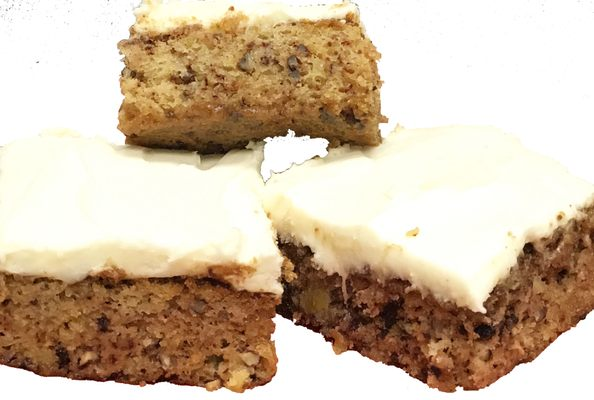sushi: (1, 54, 592, 391), (260, 119, 594, 391), (116, 2, 389, 153)
